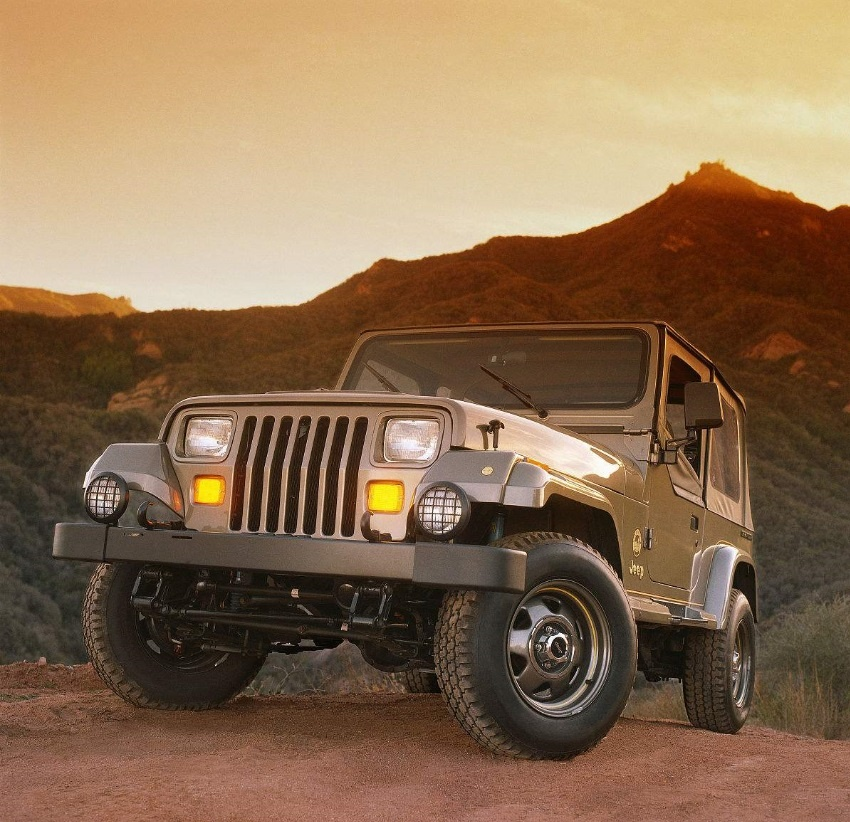jeep: (68, 320, 776, 771)
